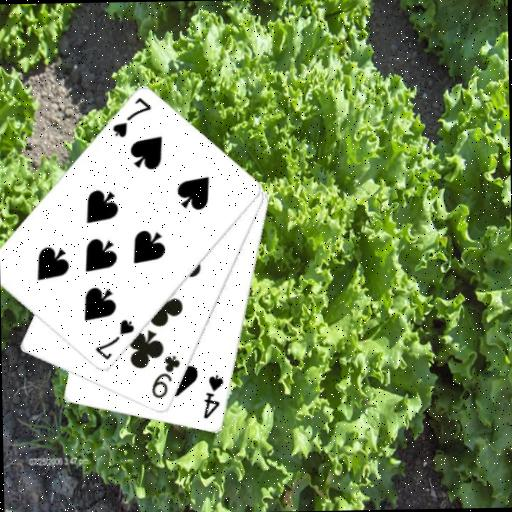4S: (200, 372, 226, 421)
7S: (91, 317, 137, 363), (108, 94, 154, 140)
9C: (148, 352, 183, 401)
